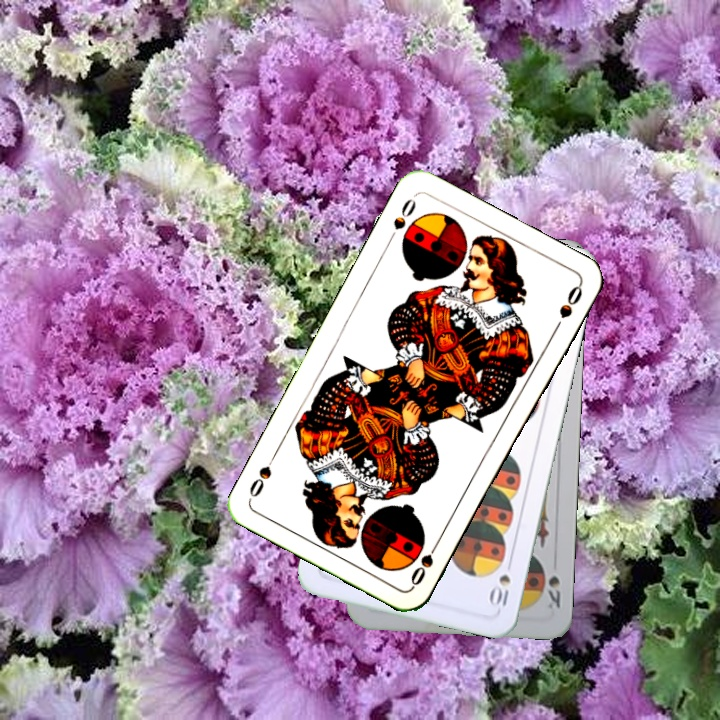S10: (487, 570, 513, 613)
SK: (543, 571, 563, 613)
SO: (406, 535, 443, 589), (384, 194, 419, 246)
